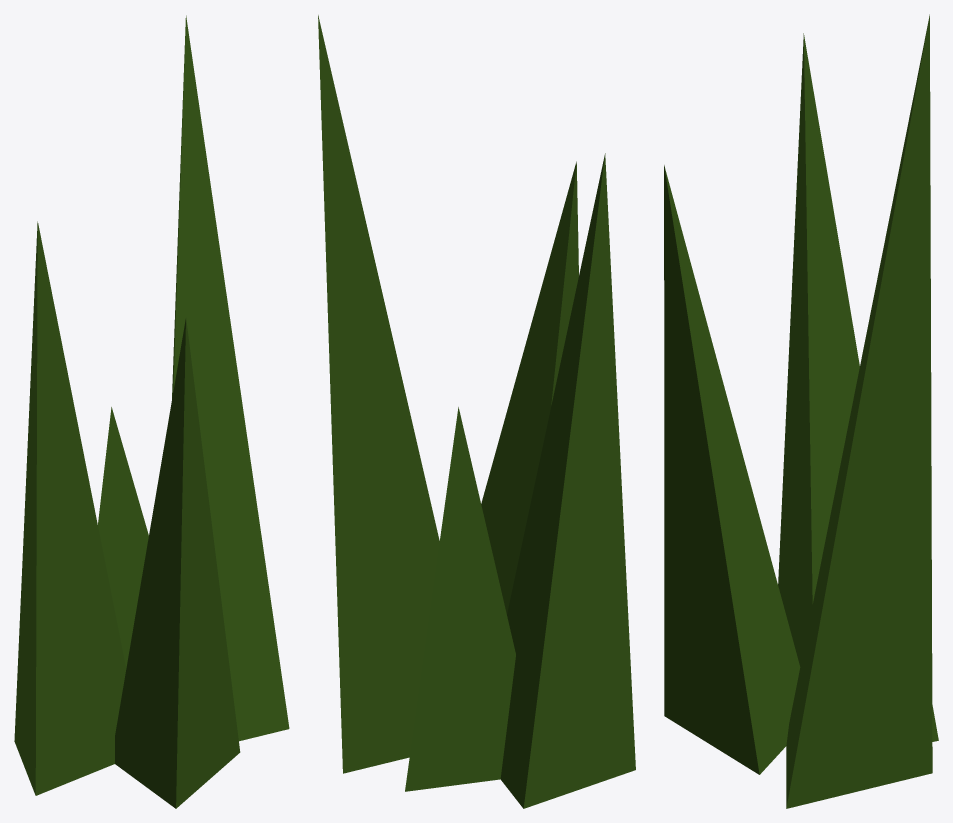
Rendered from grama01.fbx.
3 renders of one model, left to right at view 1: azimuth 30°, elevation 25°; view 2: azimuth 150°, elevation 25°; view 3: azimuth 270°, elevation 25°, orthographic. The views are drawn at different scales.
Visible parts, largest first — view 1: Cone.001, Cone.002, Cone, Cone.003; view 2: Cone.001, Cone, Cone.003, Cone.002; view 3: Cone, Cone.002, Cone.001.
Boxes of the visible parts, <box> form: Cone.001: <box>14,221,126,795</box>; Cone.002: <box>115,318,240,808</box>; Cone: <box>172,15,289,741</box>; Cone.003: <box>98,407,148,668</box>; Cone.001: <box>500,153,635,808</box>; Cone: <box>318,15,439,773</box>; Cone.003: <box>405,407,515,791</box>; Cone.002: <box>481,161,578,614</box>; Cone: <box>786,14,932,808</box>; Cone.002: <box>664,165,800,774</box>; Cone.001: <box>778,33,859,666</box>.
Bounding box in the file's own units: 409 × 1025 × 330.
Materials: 1 (1 with a texture image).
